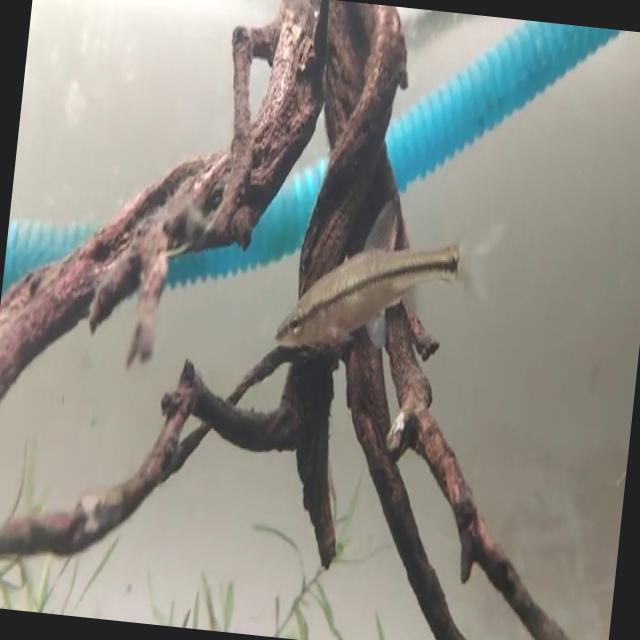Cakil Baligi: (272, 222, 464, 370)
